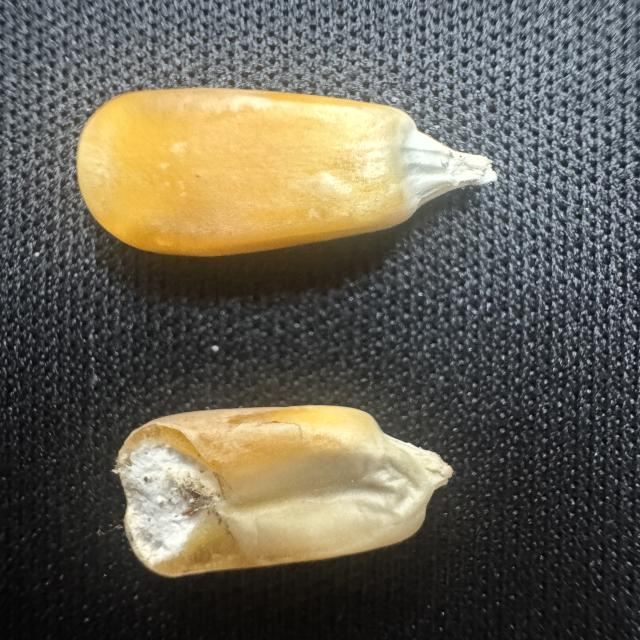Bad-Seed: (115, 394, 455, 582)
Good-Seed: (66, 82, 511, 268)
